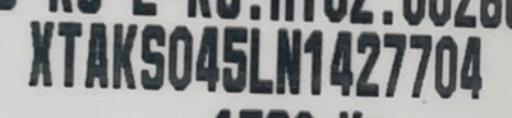letter: (246, 24, 276, 96), (54, 19, 84, 89), (219, 24, 249, 94), (110, 18, 138, 92), (274, 24, 302, 98), (380, 29, 408, 103), (26, 17, 54, 87), (138, 22, 166, 92), (194, 23, 222, 93), (166, 24, 194, 94), (326, 28, 354, 98), (433, 30, 459, 104), (354, 29, 382, 97), (407, 31, 433, 102), (83, 19, 109, 89), (458, 32, 484, 102), (301, 27, 325, 97)
